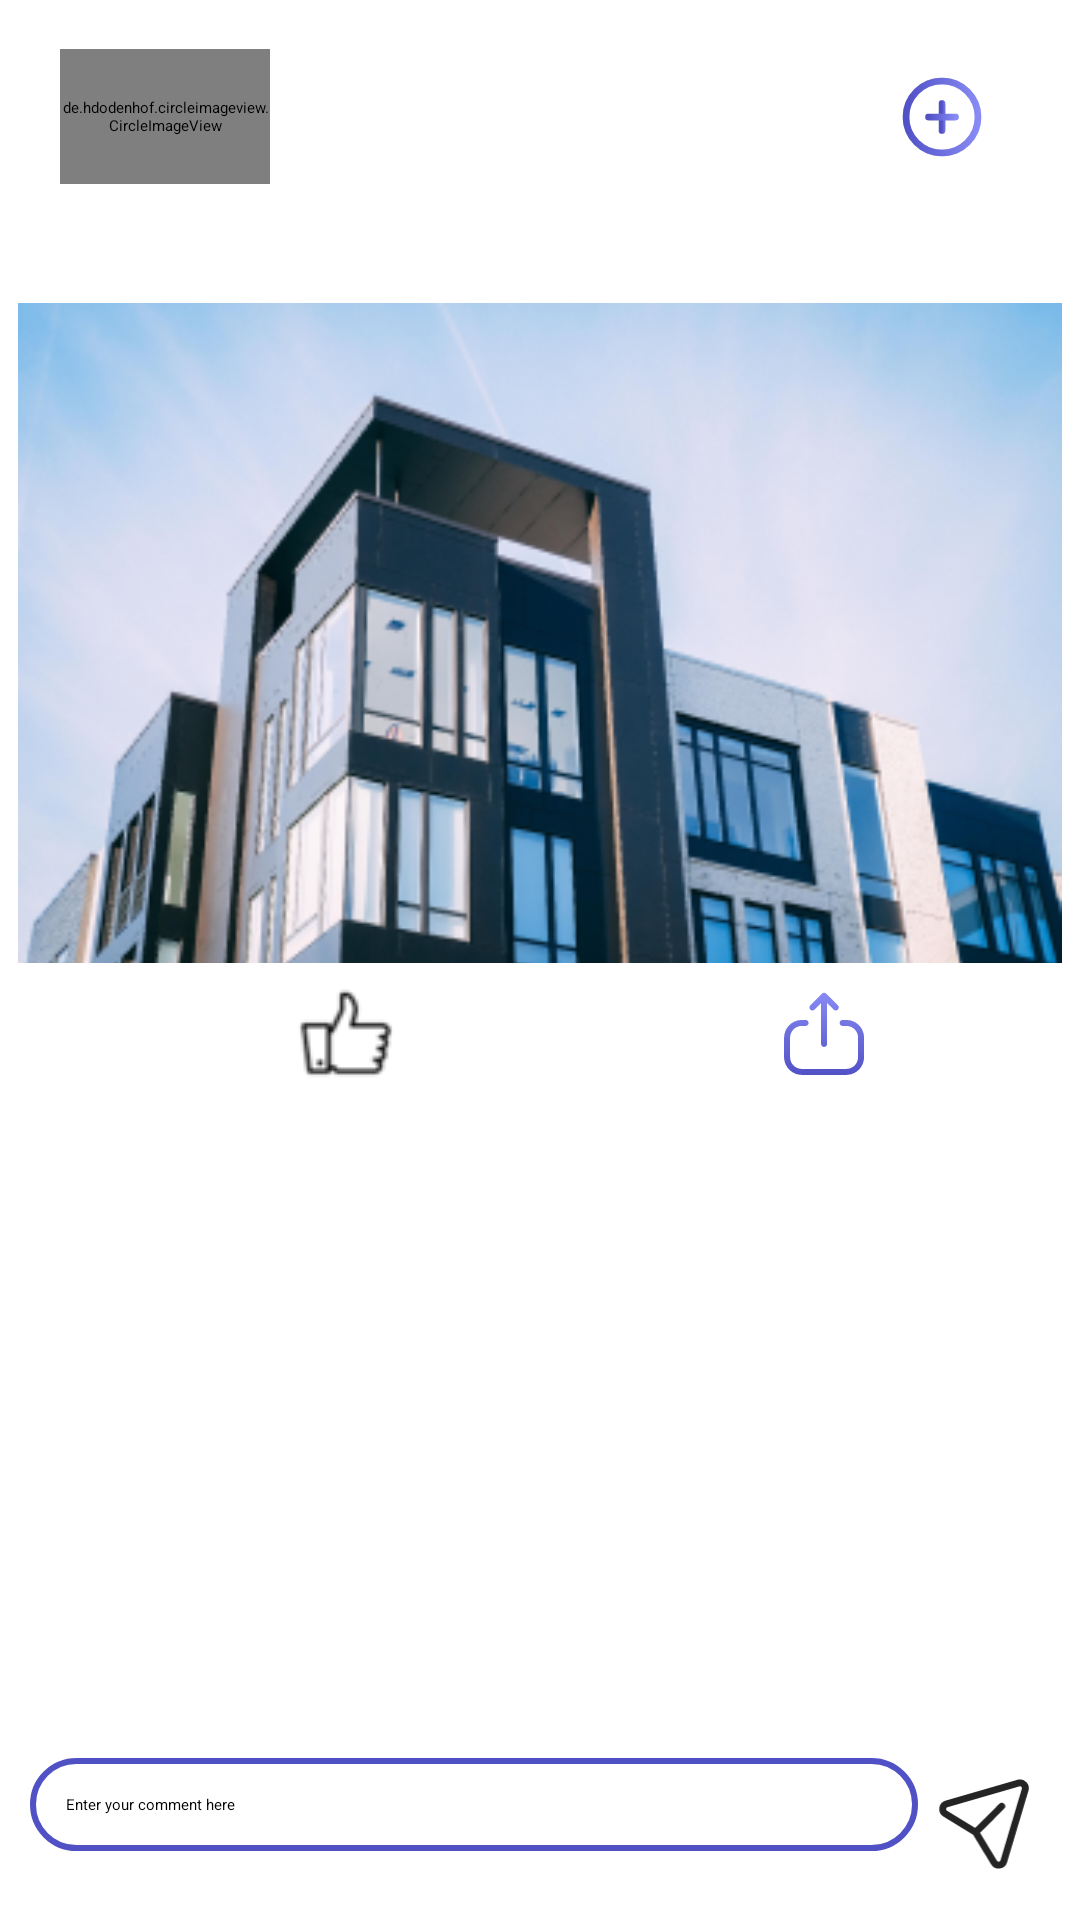

Icons on this 1080x1920 Android screen, each with its box as (x1, y1, x2, y2):
react like: (300, 990, 392, 1075)
send: (939, 1779, 1029, 1869)
share: (784, 993, 864, 1075)
